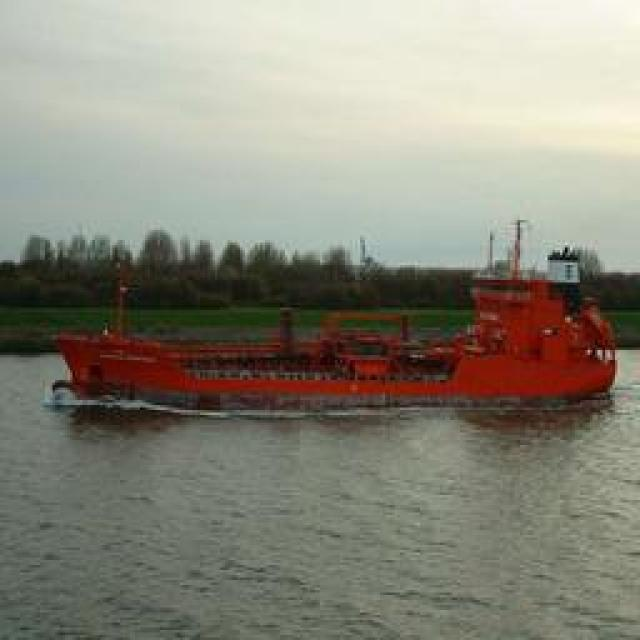ship2: (42, 220, 620, 418)
